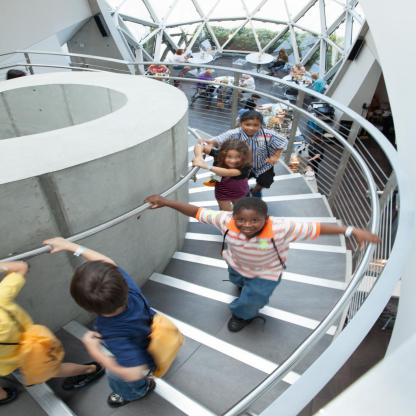face: (235, 212, 264, 237), (242, 118, 261, 136), (224, 150, 242, 168), (280, 52, 285, 56), (182, 51, 185, 55)
